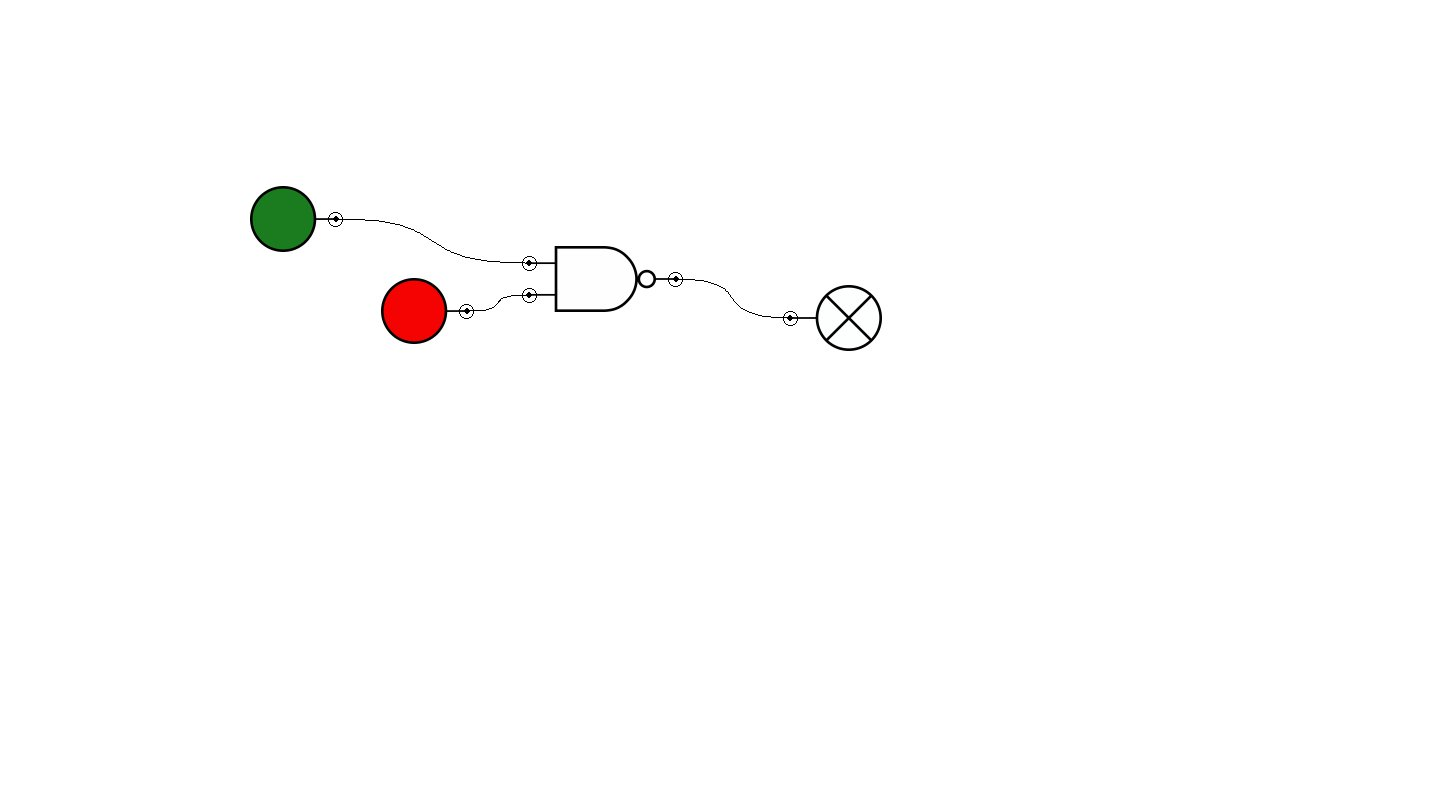bulb: (783, 285, 882, 351)
nand: (522, 246, 683, 312)
switch_False: (381, 278, 474, 344)
switch_True: (250, 186, 343, 252)
